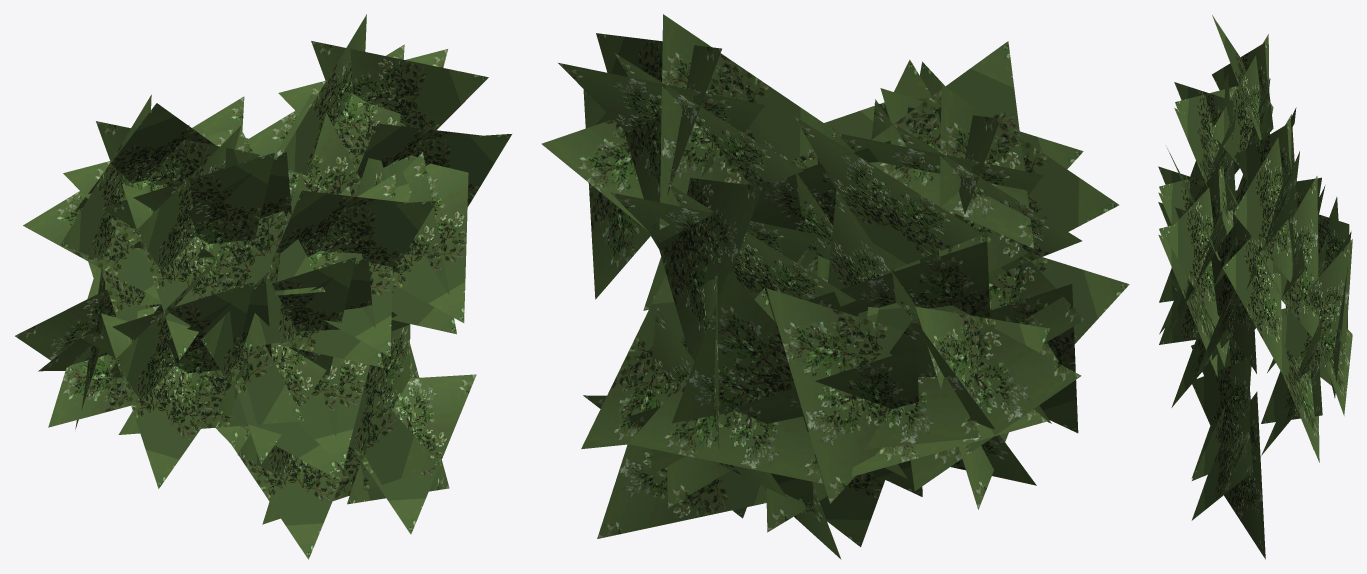
File: fig_top_a.glb
The picture shows the model from 3 angles, left to right: view 1: azimuth 30°, elevation 25°; view 2: azimuth 150°, elevation 25°; view 3: azimuth 270°, elevation 25°; orthographic projection. The views are drawn at different scales.
Size of the model in its own units: 18.63 by 18.5 by 7.92.
1 material, 1 textured.
